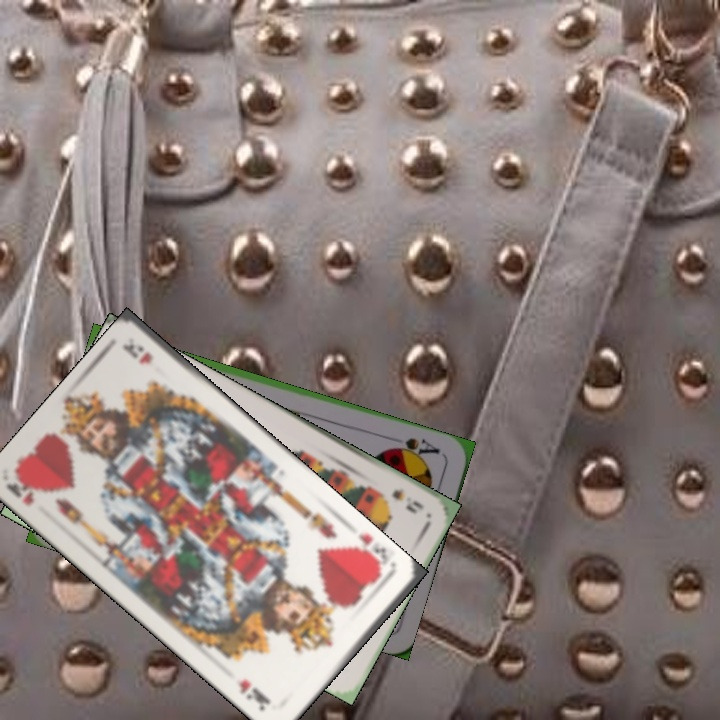HK: (345, 529, 399, 579), (3, 471, 43, 509)
S9: (387, 484, 427, 516)
SA: (385, 433, 443, 462)
